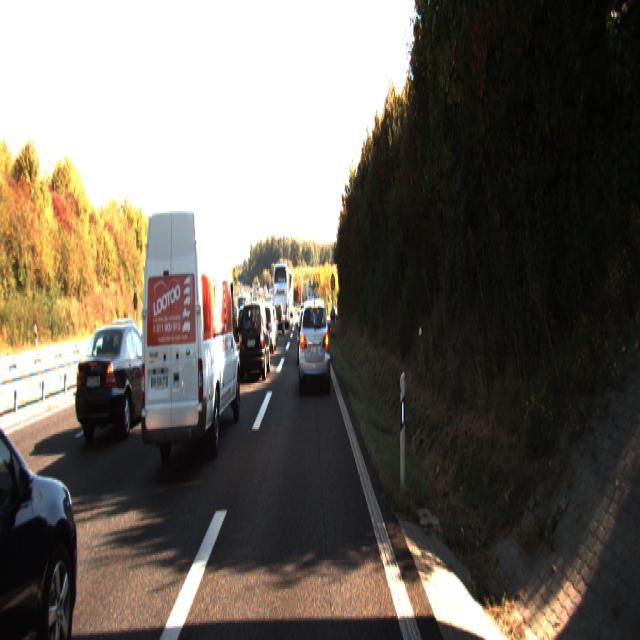Car: (135, 203, 242, 478), (0, 348, 95, 639), (75, 319, 159, 447), (152, 309, 202, 396), (298, 295, 330, 394), (238, 296, 270, 380), (273, 260, 290, 327), (256, 302, 276, 355)
